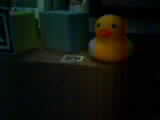duck: (90, 14, 132, 59)
